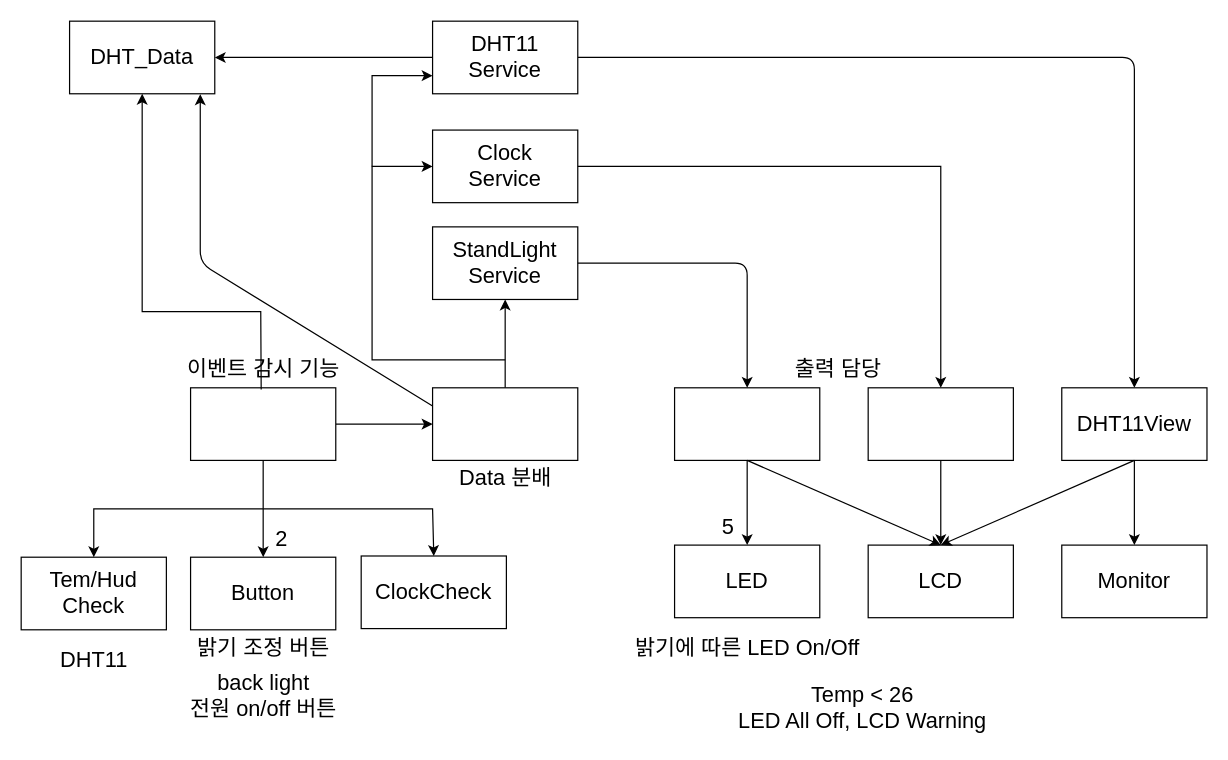
This 1228x760 diagram has some shape labels left out. Each missing label, with the box of its shape:
ClockView: (867, 387, 1013, 460)
Controller: (431, 387, 578, 460)
LightView: (673, 387, 820, 460)
Listener: (189, 387, 336, 460)
상태머신: (450, 93, 559, 129)
